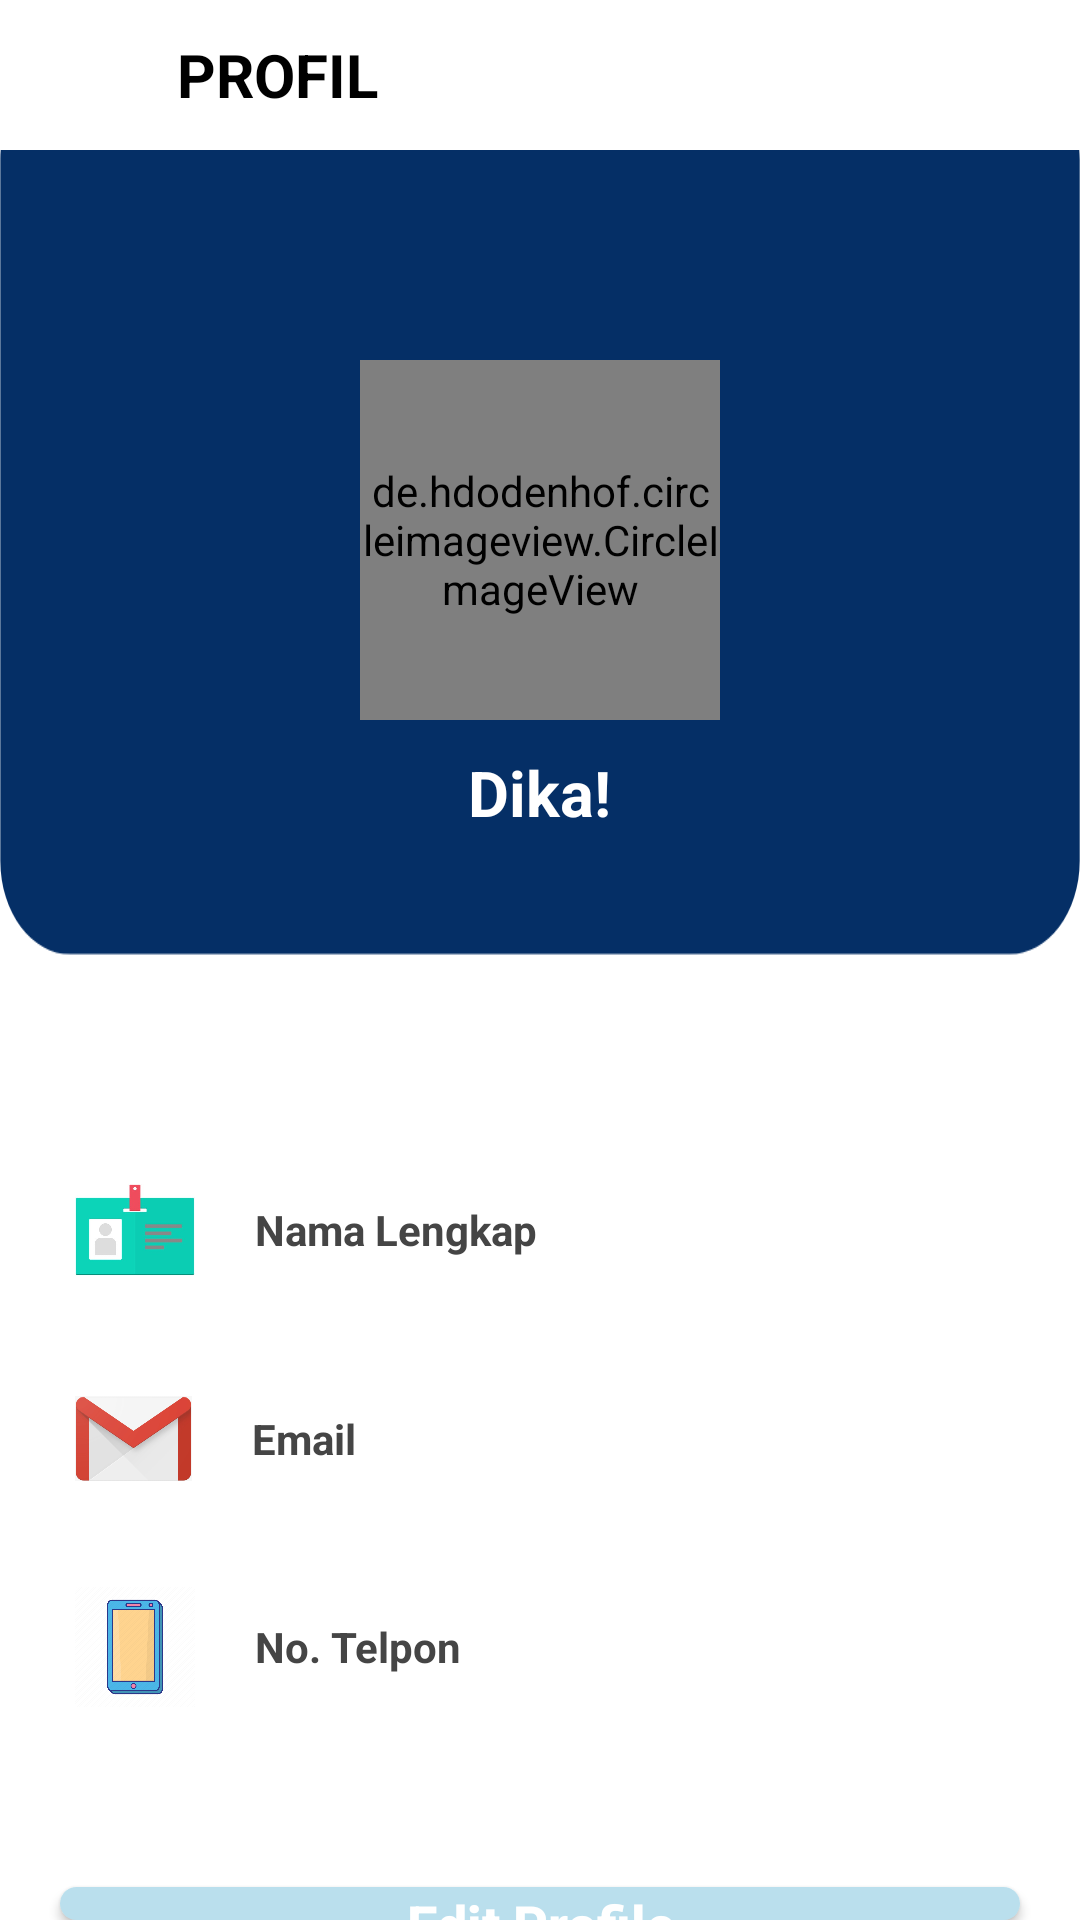

Named icons in this screenshot (1080*1920) and their centers, (x,y):
hanphone: (135,1647)
